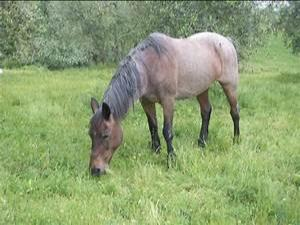horse: (87, 30, 241, 177)
